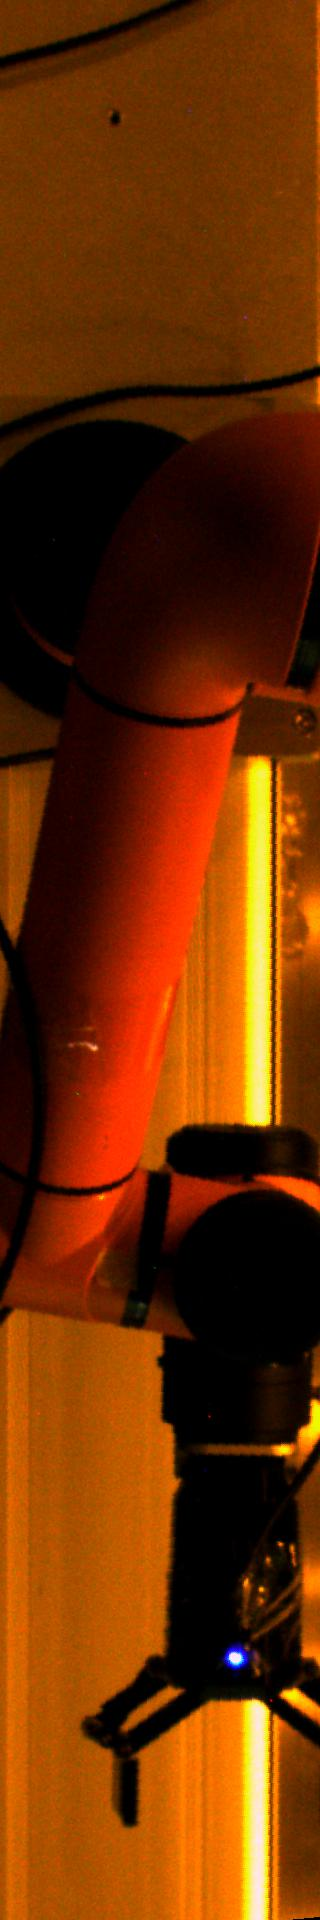keyPoint_1: (219, 1640, 250, 1670)
keyPoint_2: (99, 104, 129, 133)
